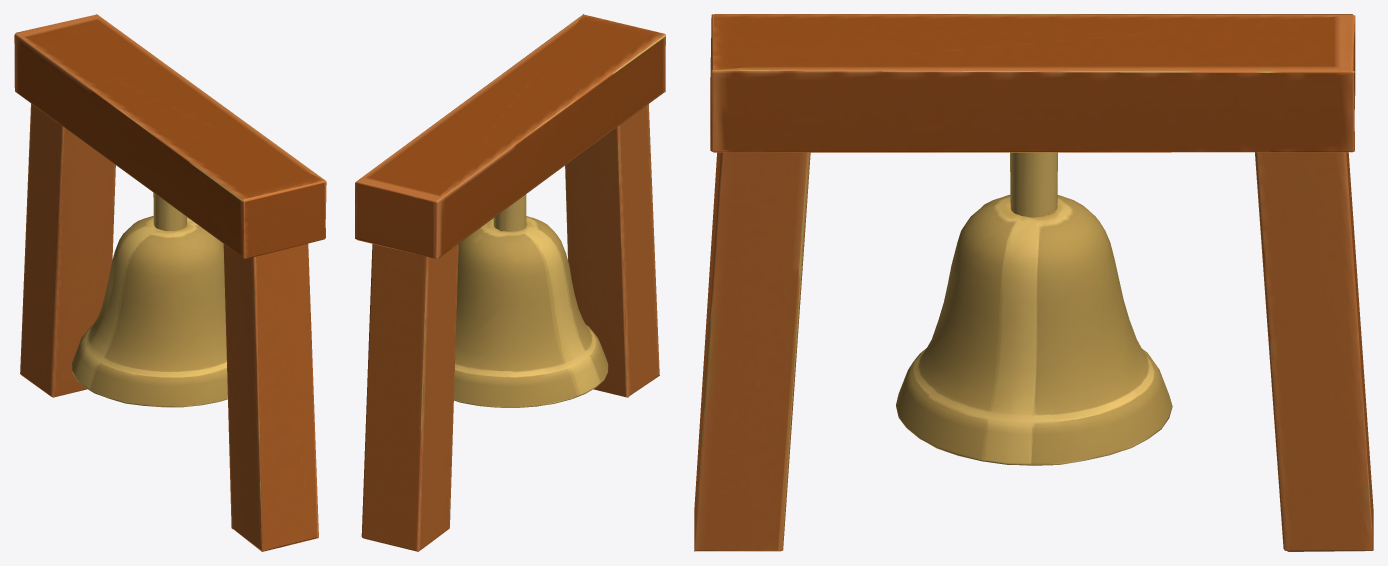
File: alarmBell.glb
The picture shows the model from 3 angles, left to right: view 1: azimuth 30°, elevation 25°; view 2: azimuth 150°, elevation 25°; view 3: azimuth 270°, elevation 25°; orthographic projection. The views are drawn at different scales.
Size of the model in its own units: 0.4131 by 0.8008 by 1.
Materials: 1 (1 with a texture image).
